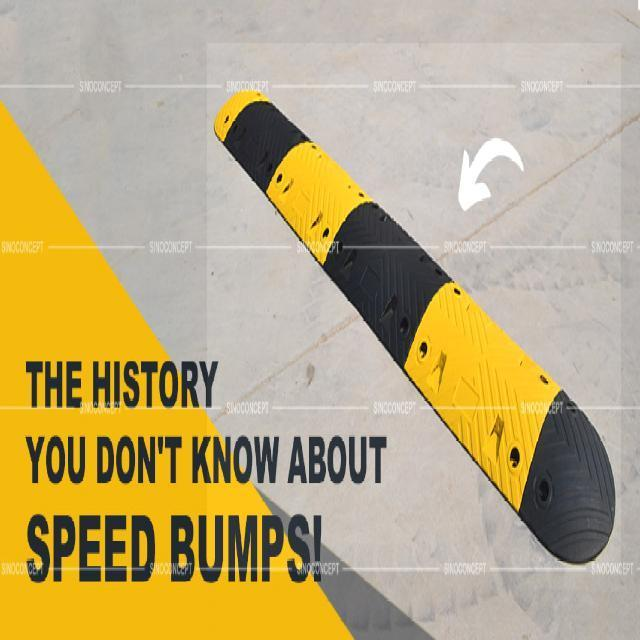Marked Bump: (212, 100, 616, 535)
